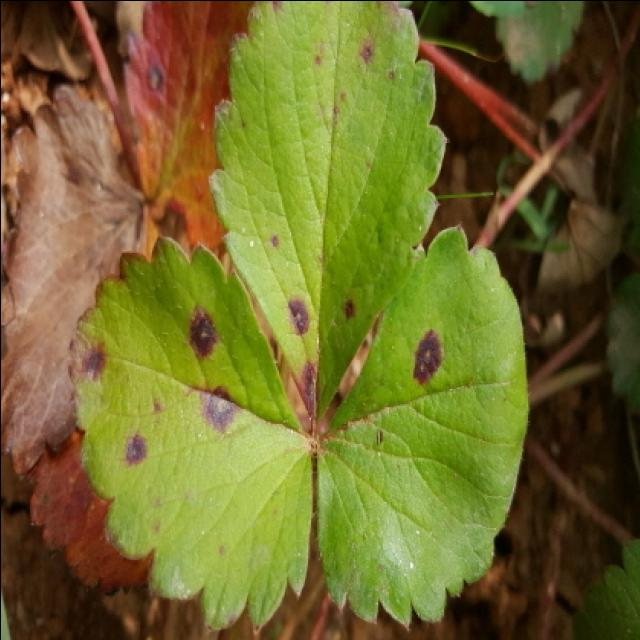Leaf Spot: (205, 2, 448, 438), (67, 233, 314, 636), (315, 225, 530, 632), (115, 2, 251, 268)
